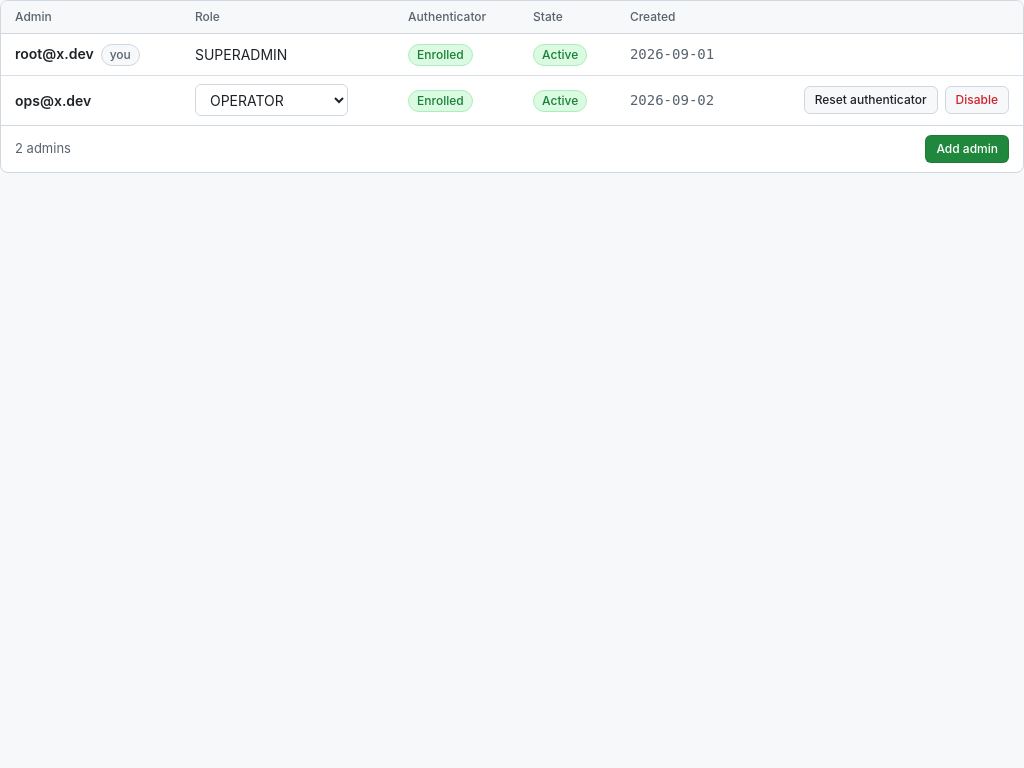
Test: Admins › adds a colleague only with a long enough password and your code
This screenshot has width=1024, height=768.
Expected: the text "ops@x.dev" is shown, [15, 92, 91, 109]
Click the button "Add admin" at (967, 149), box [925, 135, 1009, 163]
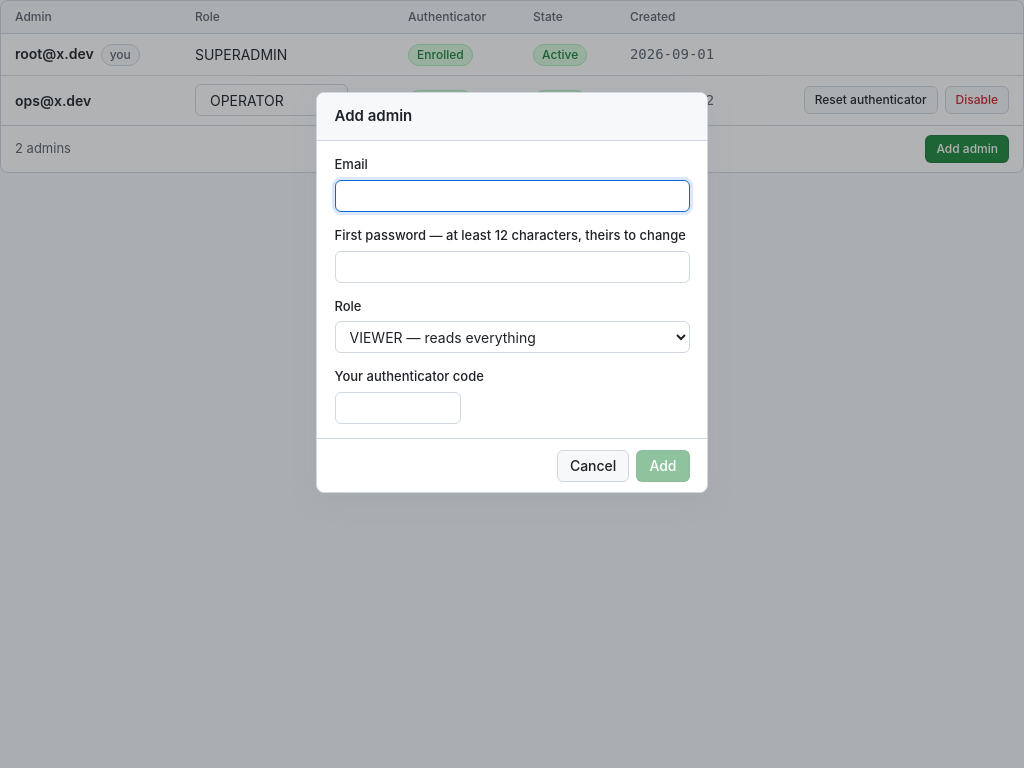
Type "new@x.dev" into the field labelled "Email" at (512, 196), box [334, 180, 690, 212]
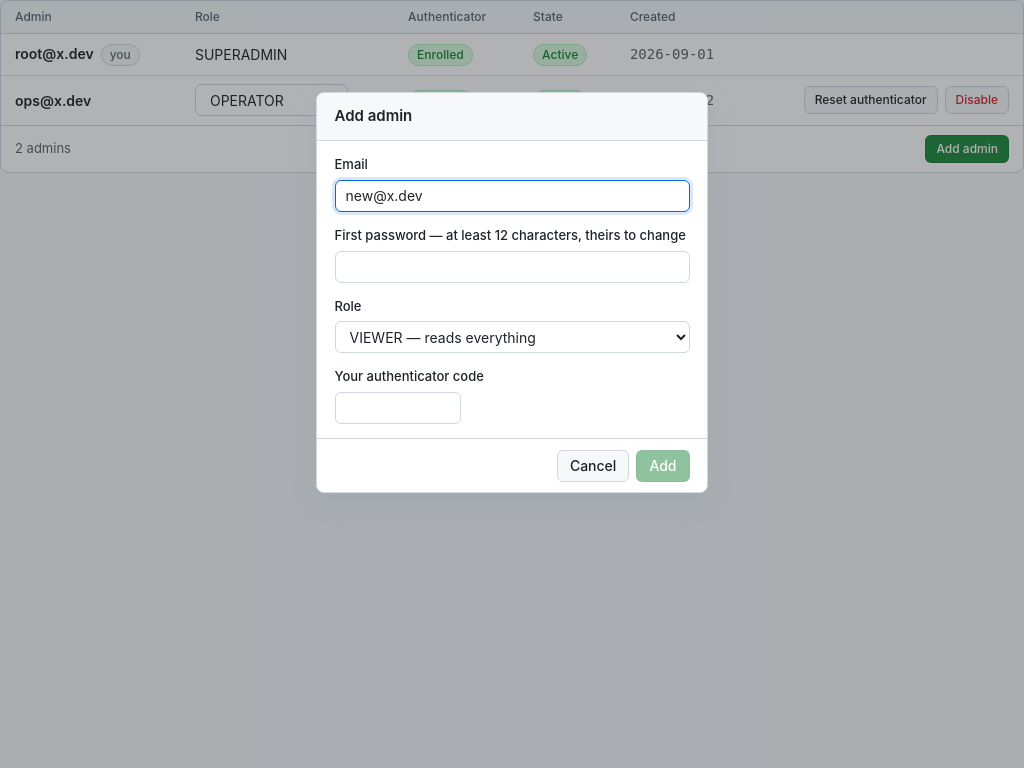
Type "short" into the password field labelled "First password — at least 12 characters, theirs to change" at (512, 267), box [334, 251, 690, 283]
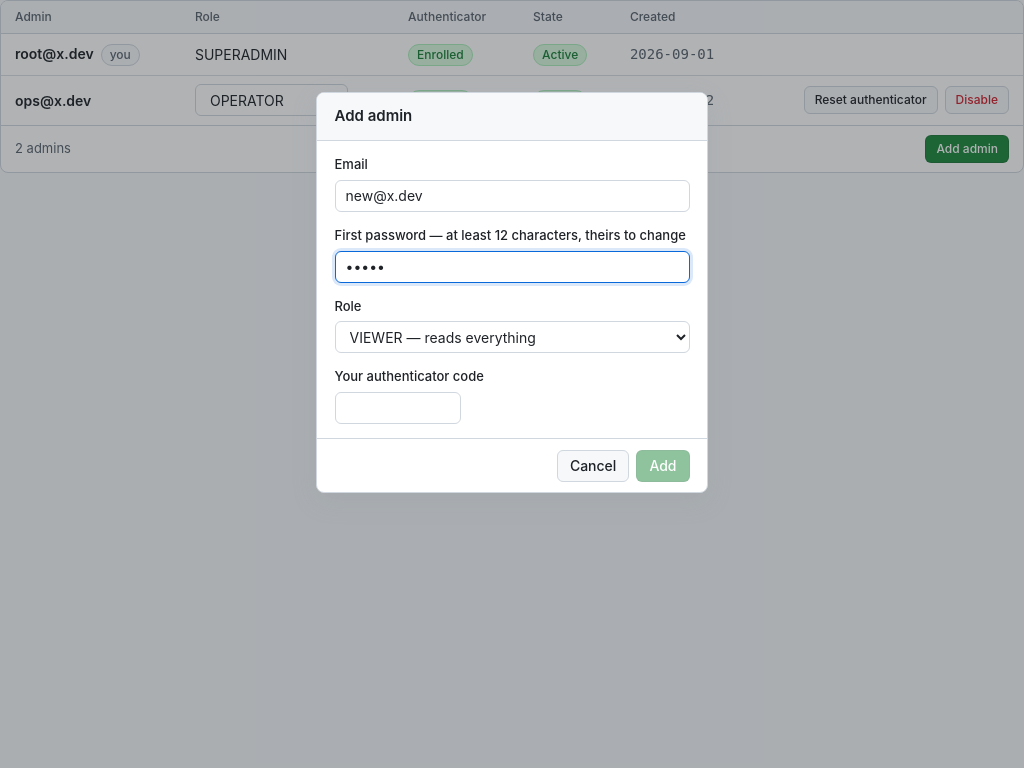
Type "123456" into the field labelled "Your authenticator code" at (398, 408), box [334, 392, 460, 424]
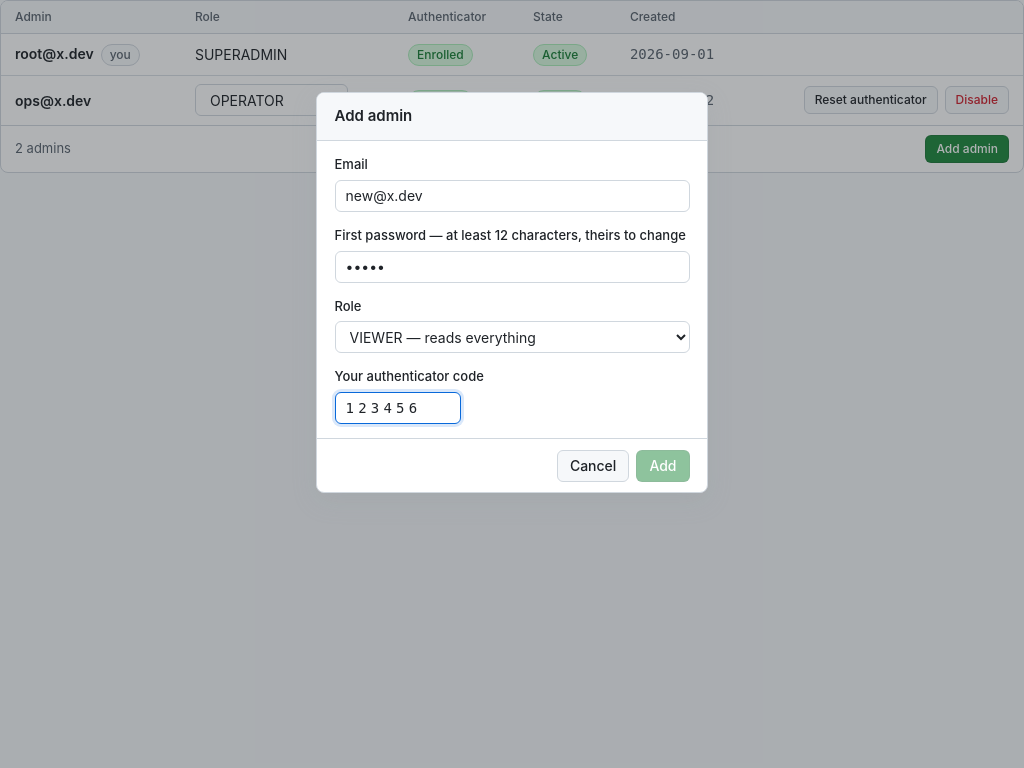
Now the button "Add" is disabled, box [636, 450, 690, 482]
Type "-but-now-long-enough" into the password field labelled "First password — at least 12 characters, theirs to change" at (512, 267), box [334, 251, 690, 283]
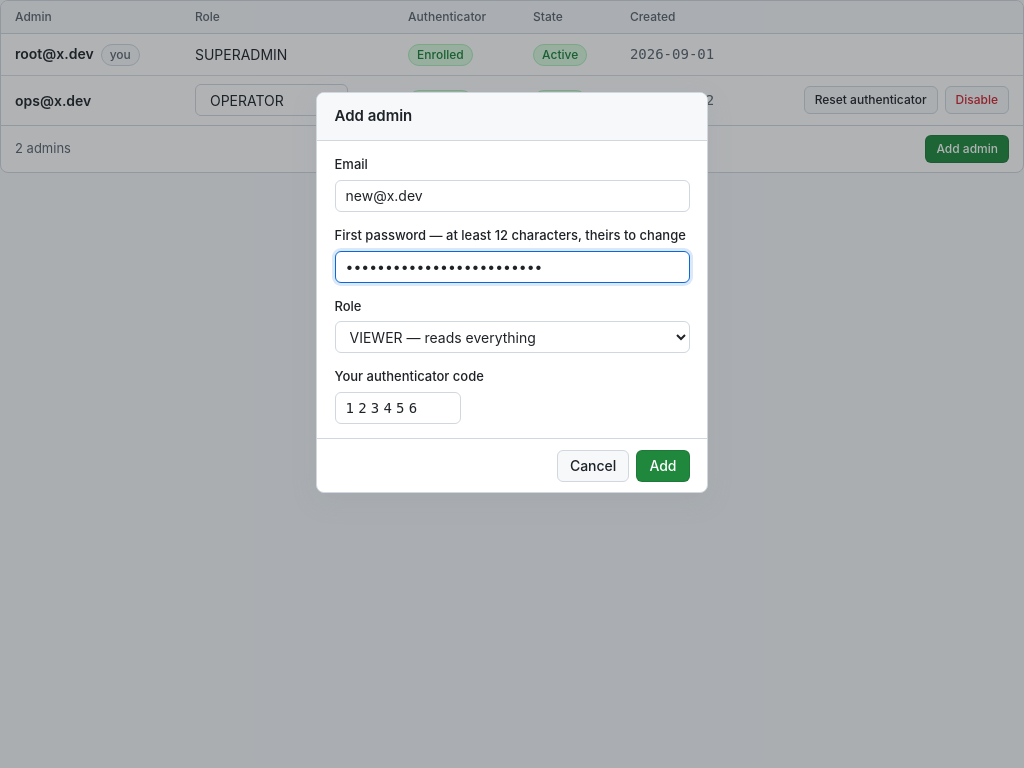
Click the button "Add" at (663, 466), box [636, 450, 690, 482]
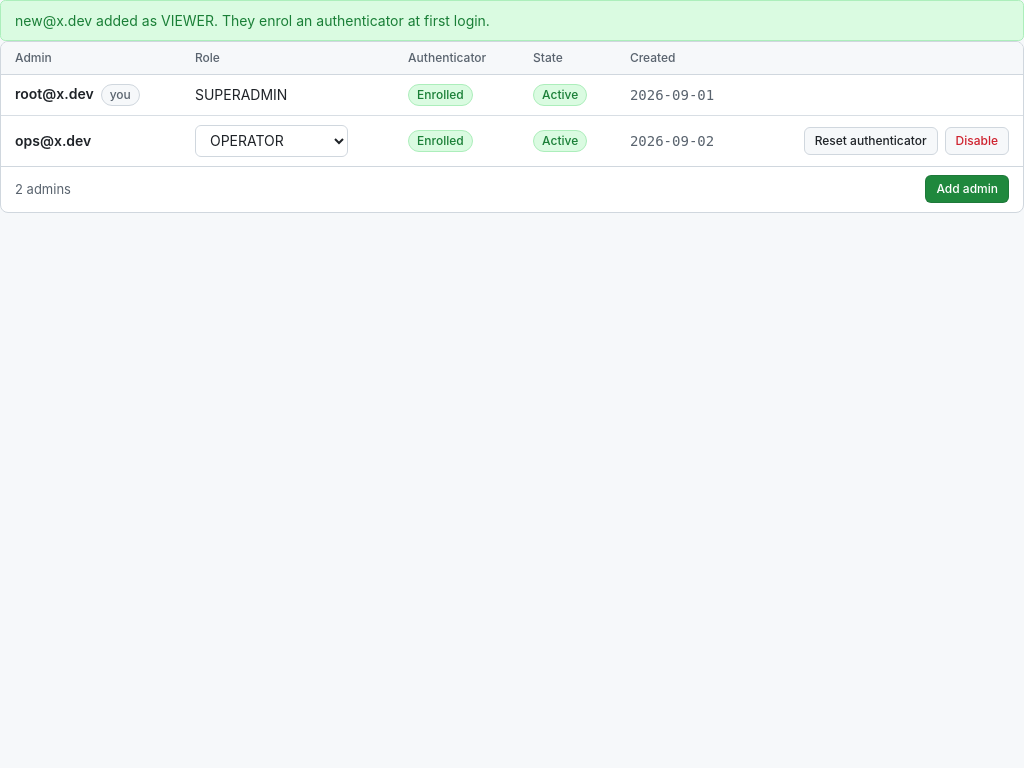
Now the message shows "enrol an authenticator at first login", box [15, 12, 490, 29]
